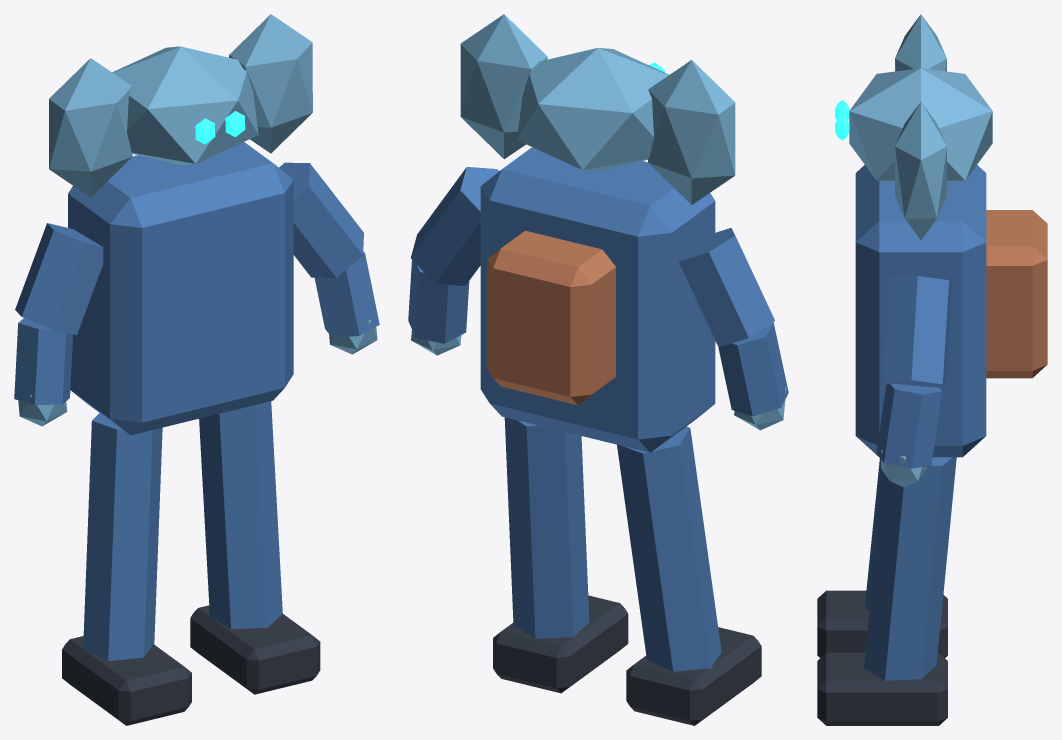
The model's file is npcs_040_seed11.glb.
3 renders of one model, left to right at view 1: azimuth 30°, elevation 25°; view 2: azimuth 150°, elevation 25°; view 3: azimuth 270°, elevation 25°, orthographic. The views are drawn at different scales.
Visible parts, largest first — view 1: npcs_040_seed11; view 2: npcs_040_seed11; view 3: npcs_040_seed11.
Part boxes in pixels (box(x1,y1,x2,y2)): npcs_040_seed11: box(14, 14, 379, 725); npcs_040_seed11: box(408, 14, 788, 725); npcs_040_seed11: box(817, 14, 1047, 725).
Size of the model in its own units: 0.9675 by 1.63 by 0.5406.
